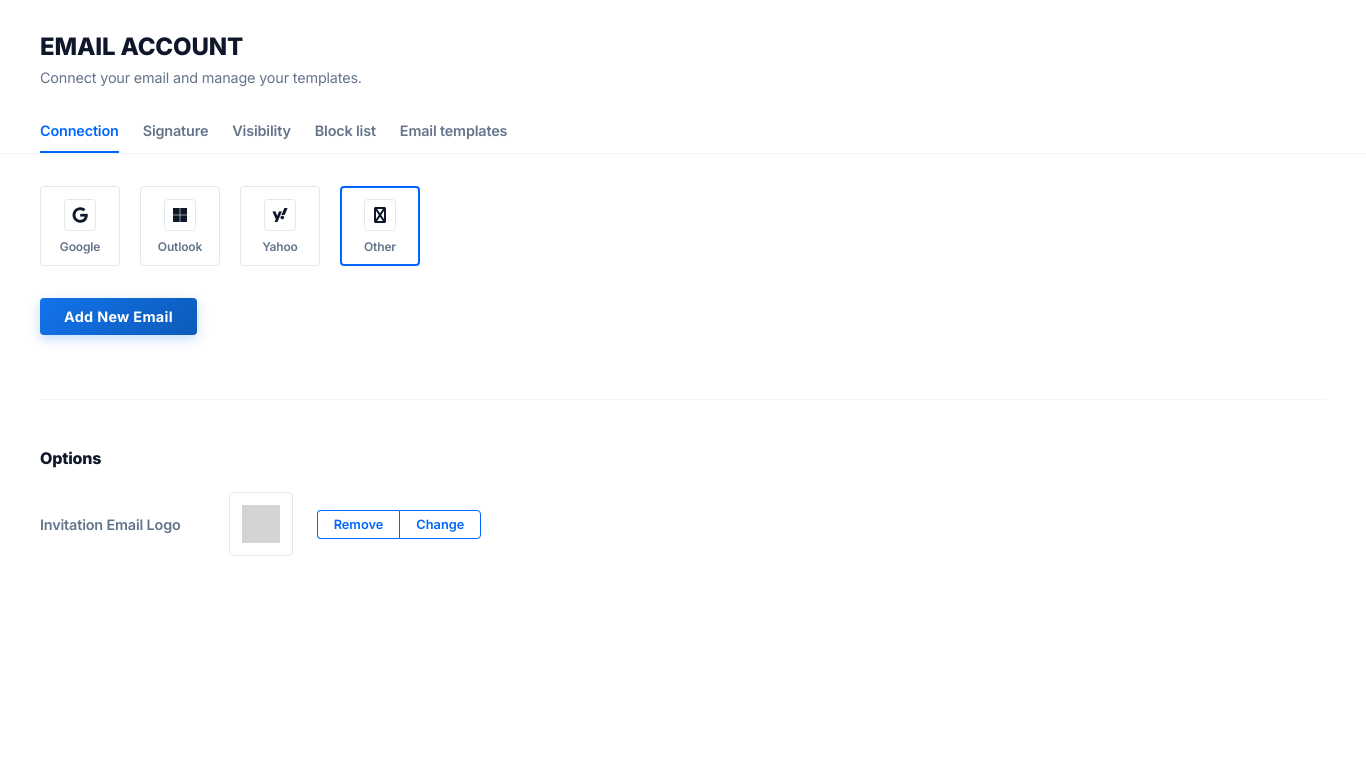
it: EmailSettingsPage with DataTable › navigates to Email templates tab and renders templates inside DataTable
This screenshot has width=1366, height=768.
Switch to Email templates tab
Click the text "Email templates".
click(454, 130)  # box left=400, top=122, right=507, bottom=139
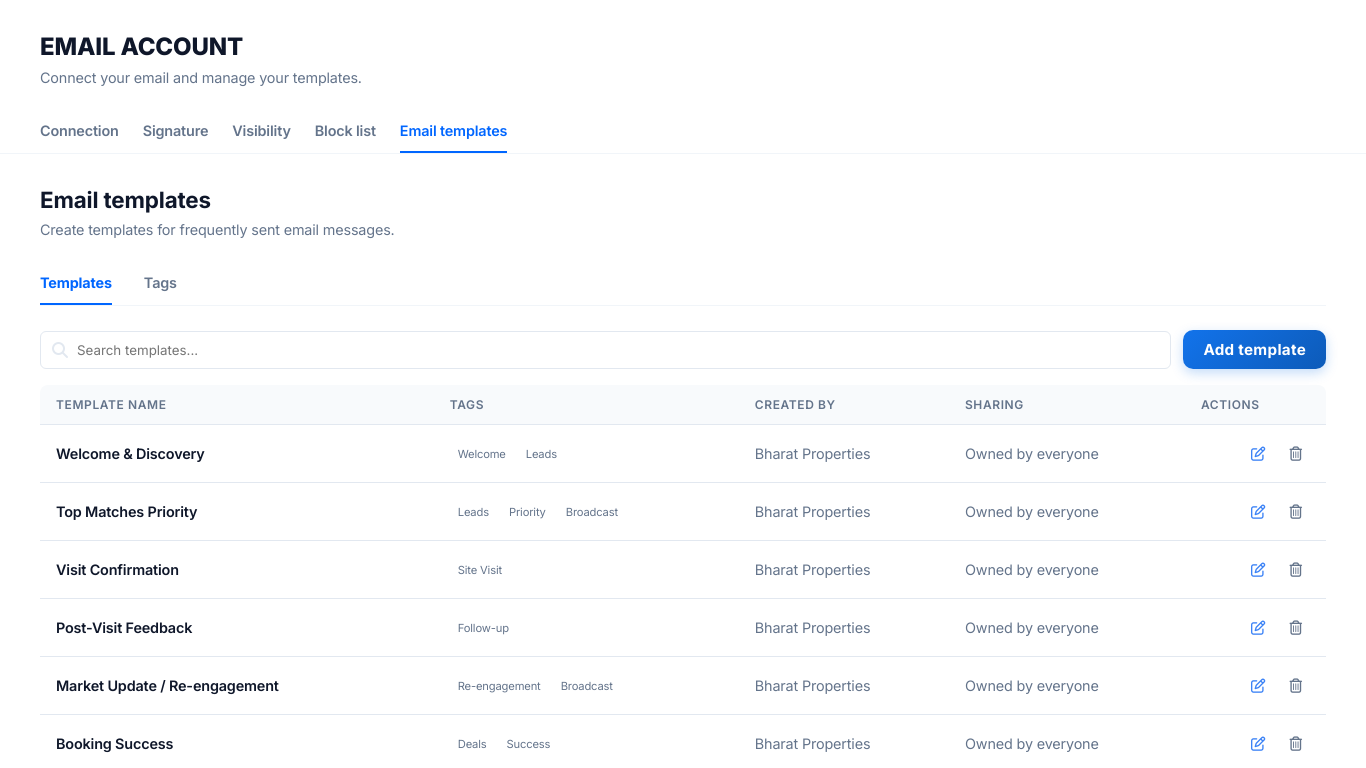
Expected: the heading "Email templates" is shown, left=40, top=186, right=211, bottom=213
Expected: the field with placeholder "Search templates..." is shown, left=40, top=330, right=1171, bottom=368
Expected: the button "Add template" is shown, left=1183, top=330, right=1326, bottom=369
